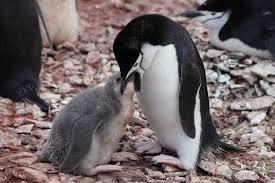chinstrap: (100, 0, 238, 174)
